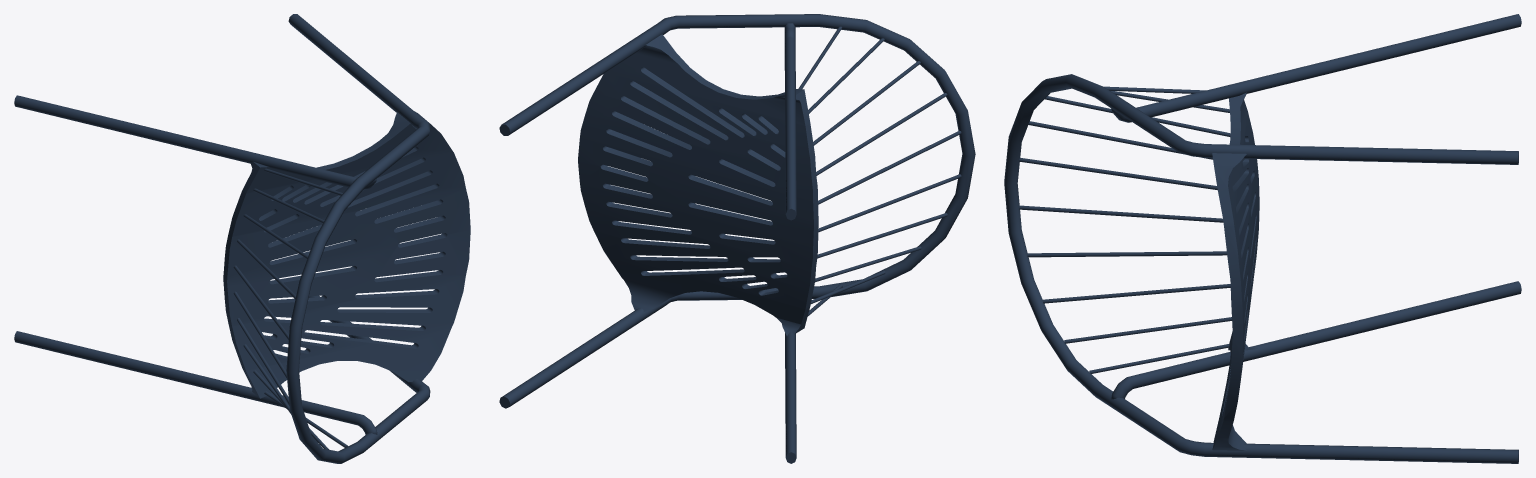
3 renders of one model, left to right at view 1: azimuth 30°, elevation 25°; view 2: azimuth 150°, elevation 25°; view 3: azimuth 270°, elevation 25°, orthographic. The views are drawn at different scales.
Visible parts, largest first — view 1: catena chair; view 2: catena chair; view 3: catena chair.
Boxes of the visible parts, x1,y1,x2,y2 form: catena chair: (14, 14, 470, 463); catena chair: (499, 14, 975, 463); catena chair: (1004, 14, 1521, 463).
Size of the model in its own units: 26.37 by 20.92 by 31.39.
